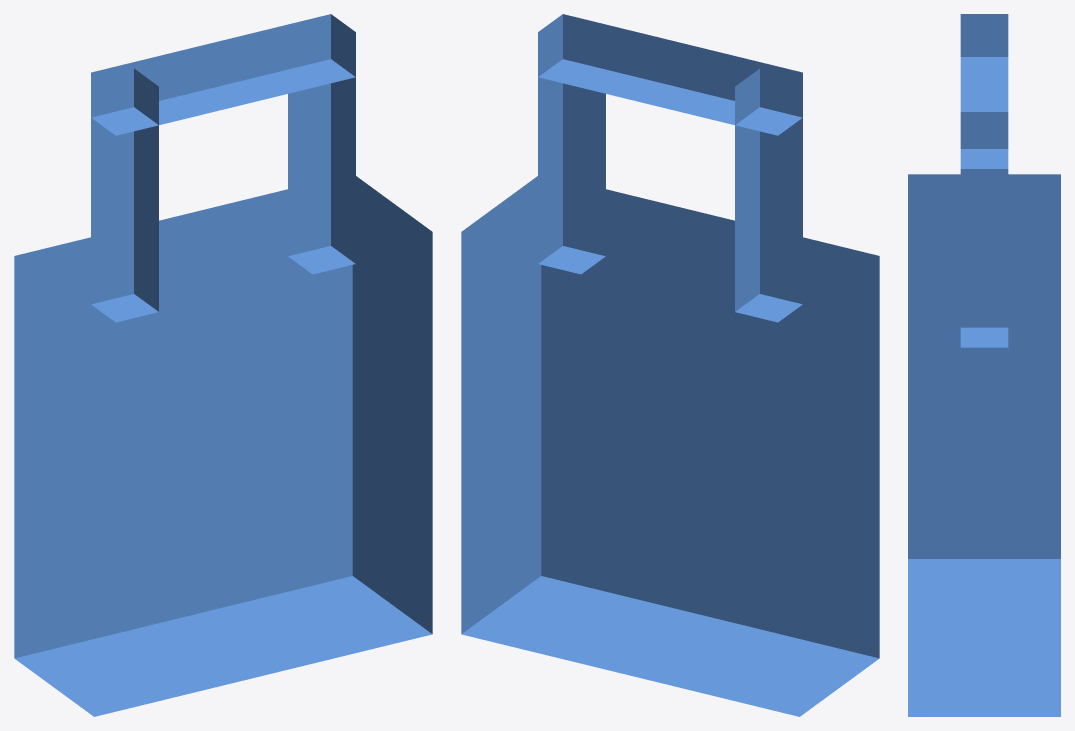
File: fixings_brass_padlock.gltf
The picture shows the model from 3 angles, left to right: view 1: azimuth 30°, elevation 25°; view 2: azimuth 150°, elevation 25°; view 3: azimuth 270°, elevation 25°; orthographic projection. The views are drawn at different scales.
Parts seen in each view (by area): view 1: fixings_brass_padlock; view 2: fixings_brass_padlock; view 3: fixings_brass_padlock.
Part boxes in pixels (x1,y1,x2,y2): fixings_brass_padlock: (14, 14, 432, 716); fixings_brass_padlock: (461, 14, 879, 716); fixings_brass_padlock: (908, 14, 1060, 716).
Size of the model in its own units: 1.1 by 1.84 by 0.45.
